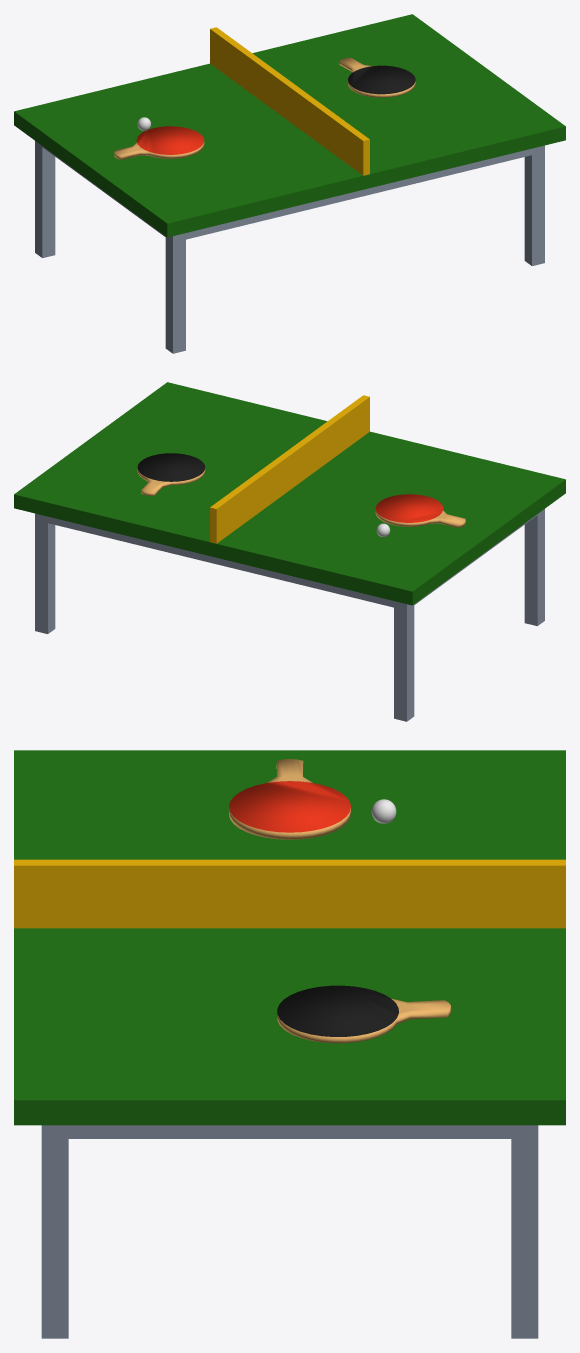
Rendered from pingis_table.fbx.
The picture shows the model from 3 angles, top to bottom: view 1: azimuth 30°, elevation 25°; view 2: azimuth 150°, elevation 25°; view 3: azimuth 270°, elevation 25°; orthographic projection. The views are drawn at different scales.
Parts seen in each view (by area): view 1: Pingis_table, Pingisrack, Pingisrack2; view 2: Pingis_table, Pingisrack, Pingisrack2; view 3: Pingis_table, Pingisrack2, Pingisrack.
Part boxes in pixels (x1=…): Pingis_table: x1=14, y1=14, x2=565, y2=353; Pingisrack: x1=114, y1=126, x2=204, y2=159; Pingisrack2: x1=339, y1=57, x2=415, y2=97; Pingis_table: x1=14, y1=382, x2=565, y2=721; Pingisrack: x1=375, y1=494, x2=465, y2=527; Pingisrack2: x1=137, y1=453, x2=205, y2=495; Pingis_table: x1=14, y1=750, x2=565, y2=1338; Pingisrack2: x1=277, y1=985, x2=450, y2=1043; Pingisrack: x1=229, y1=759, x2=350, y2=839.
Bounding box in the file's own units: 300 × 125 × 200.
